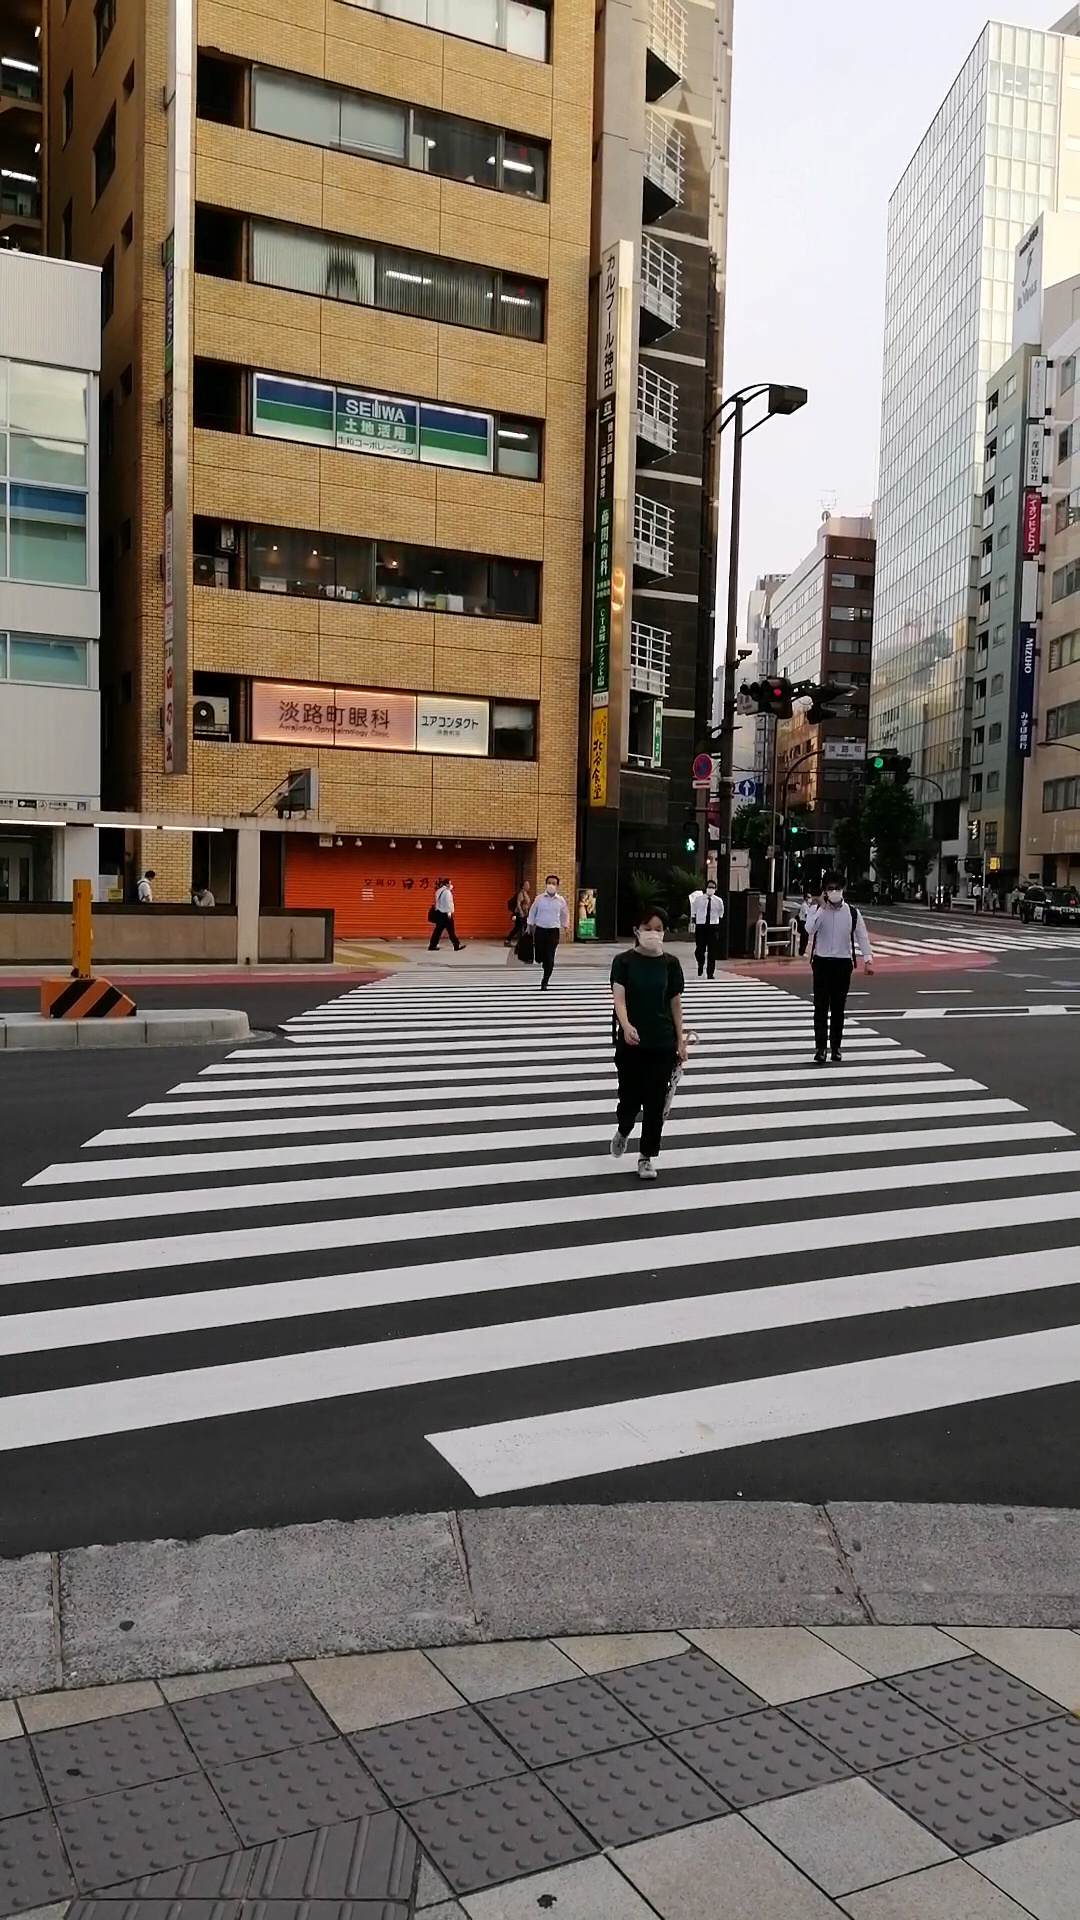green: (680, 822, 700, 858)
